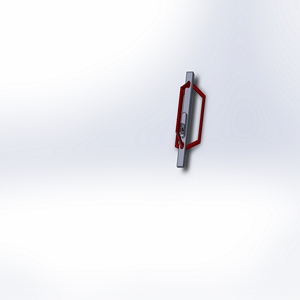submarine: (151, 68, 220, 186)
